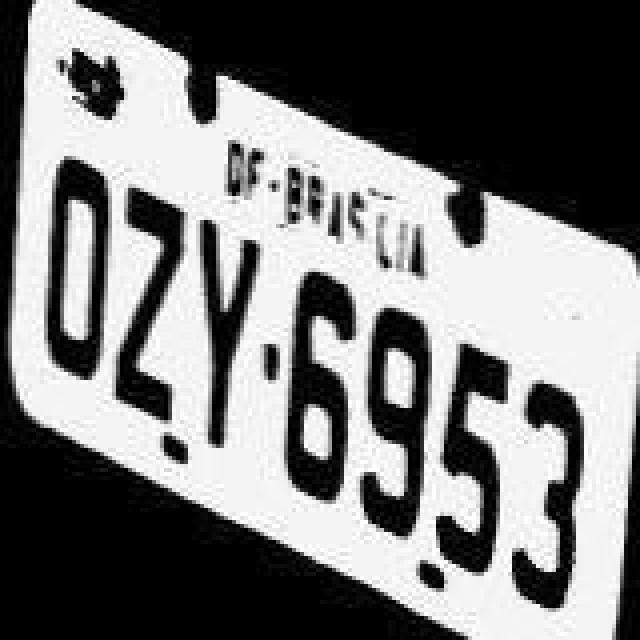3: (508, 374, 584, 610)
5: (426, 330, 506, 574)
6: (284, 270, 360, 514)
9: (356, 308, 432, 540)
O: (34, 152, 114, 392)
Y: (192, 210, 260, 462)
Z: (112, 178, 188, 430)
